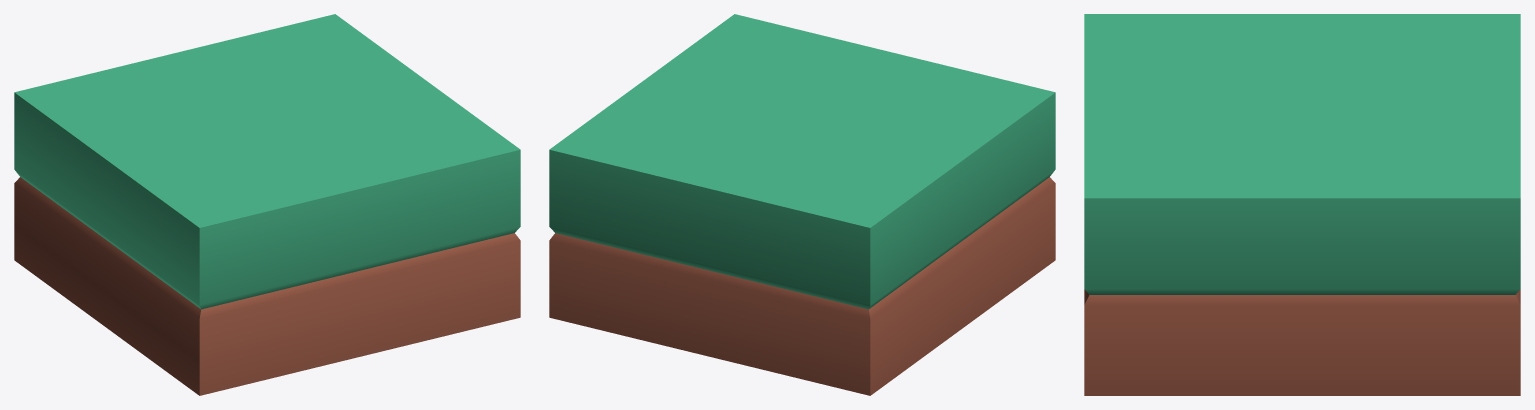
Rendered from kaykit-square-forest-detail.glb.
3 renders of one model, left to right at view 1: azimuth 30°, elevation 25°; view 2: azimuth 150°, elevation 25°; view 3: azimuth 270°, elevation 25°, orthographic. The views are drawn at different scales.
Parts seen in each view (by area): view 1: square_forest_detail; view 2: square_forest_detail; view 3: square_forest_detail.
Part boxes in pixels (bbox=[...]): square_forest_detail: bbox=[14, 14, 520, 395]; square_forest_detail: bbox=[549, 14, 1055, 395]; square_forest_detail: bbox=[1084, 14, 1520, 395].
Size of the model in its own units: 2 by 0.9998 by 2.
